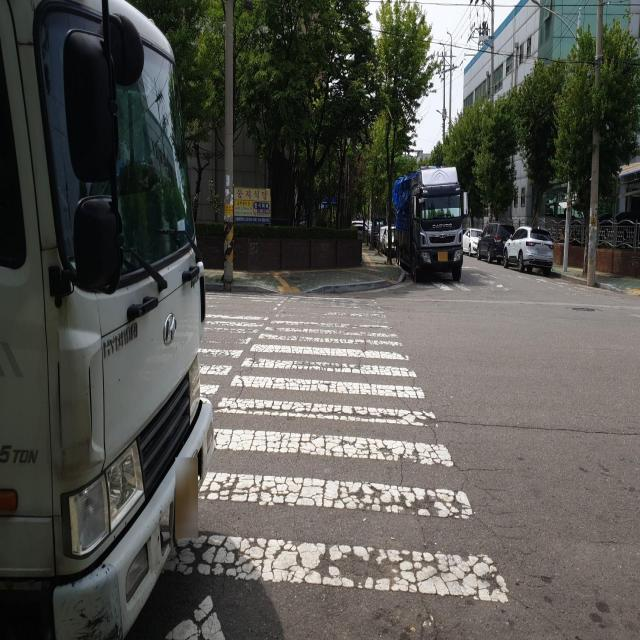횡단보도: (155, 289, 509, 640)
